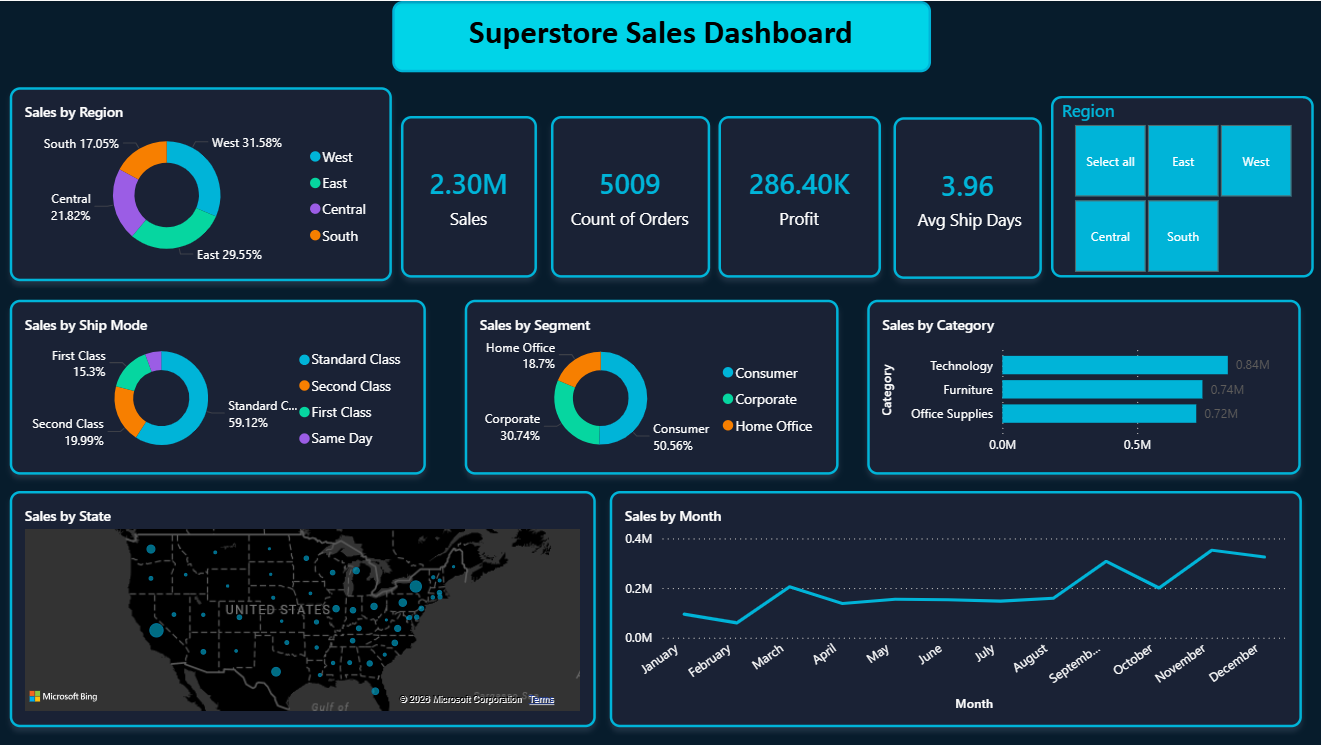

Layout of this report page (visuals, bound fields, positions):
{"tool":"powerbi","page":{"name":"Page 1","canvas":[1280,720],"ordinal":0},"visuals":[{"type":"textbox","box":[382.4,0,520,68.8],"z":0},{"type":"card","fields":{"Values":["Sum(superstore_cleaned.Sales)"]},"box":[390.9,111,131.5,155.6],"z":1000},{"type":"card","fields":{"Values":["Count(superstore_cleaned.Order ID)"]},"box":[535.7,111,153.2,155.6],"z":2000},{"type":"card","fields":{"Values":["Sum(superstore_cleaned.Profit)"]},"box":[697.3,111,156.8,155.6],"z":3000},{"type":"card","fields":{"Values":["Avg(superstore_cleaned.Ship Days)"]},"box":[866.2,112.2,143.6,155.6],"z":4000},{"type":"slicer","fields":{"Values":["superstore_cleaned.Region"]},"box":[1018.2,91.7,253.4,174.9],"z":5000},{"type":"donutChart","title":"Sales by Region","fields":{"Category":["superstore_cleaned.Region"],"Y":["Sum(superstore_cleaned.Sales)"]},"box":[13.3,83.2,369.2,187],"z":6000},{"type":"donutChart","title":"Sales by Ship Mode","fields":{"Category":["superstore_cleaned.Ship Mode"],"Y":["Sum(superstore_cleaned.Sales)"]},"box":[13.3,288.3,401.7,168.9],"z":7000},{"type":"donutChart","title":"Sales by Segment","fields":{"Category":["superstore_cleaned.Segment"],"Y":["Sum(superstore_cleaned.Sales)"]},"box":[452.4,288.3,360.7,168.9],"z":8000},{"type":"clusteredBarChart","title":"Sales by Category","fields":{"Category":["superstore_cleaned.Category"],"Y":["Sum(superstore_cleaned.Sales)"]},"box":[840.9,288.3,418.6,168.9],"z":9000},{"type":"lineChart","title":"Sales by Month","fields":{"Y":["Sum(superstore_cleaned.Sales)"],"Category":["superstore_cleaned.Month"]},"box":[592.6,472.8,667.9,228.4],"z":10000},{"type":"map","title":"Sales by State","fields":{"Size":["Sum(superstore_cleaned.Sales)"],"Category":["superstore_cleaned.State"]},"box":[13.3,472.9,565.8,228],"z":11000}]}

Visuals, with their boxes in screenshot pixels (x1, y1, x2, y2), scaled from the page's 1280x720 canvas onto the 1321x745 screenshot:
textbox: [395, 0, 931, 71]
card - Sum(superstore_cleaned.Sales): [403, 115, 539, 276]
card - Count(superstore_cleaned.Order ID): [553, 115, 711, 276]
card - Sum(superstore_cleaned.Profit): [720, 115, 881, 276]
card - Avg(superstore_cleaned.Ship Days): [894, 116, 1042, 277]
slicer - superstore_cleaned.Region: [1051, 95, 1312, 276]
"Sales by Region" donutChart: [14, 86, 395, 280]
"Sales by Ship Mode" donutChart: [14, 298, 428, 473]
"Sales by Segment" donutChart: [467, 298, 839, 473]
"Sales by Category" clusteredBarChart: [868, 298, 1300, 473]
"Sales by Month" lineChart: [612, 489, 1301, 726]
"Sales by State" map: [14, 489, 598, 725]
